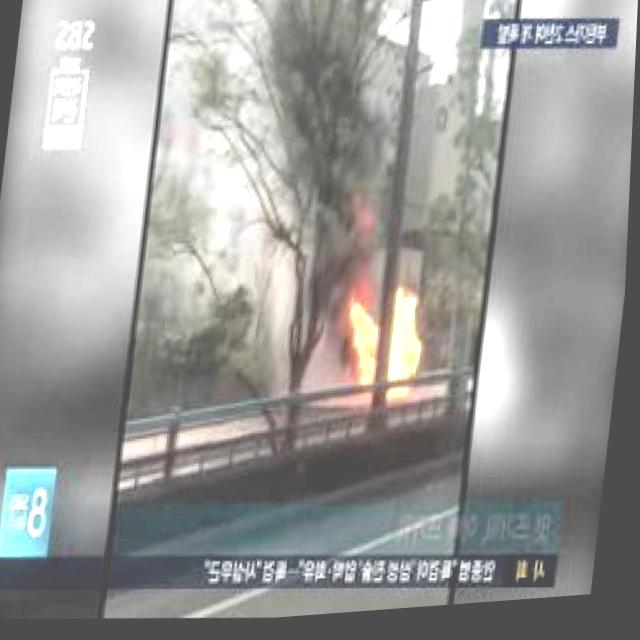Fire: (333, 303, 438, 413)
Smoke: (133, 0, 364, 402)
